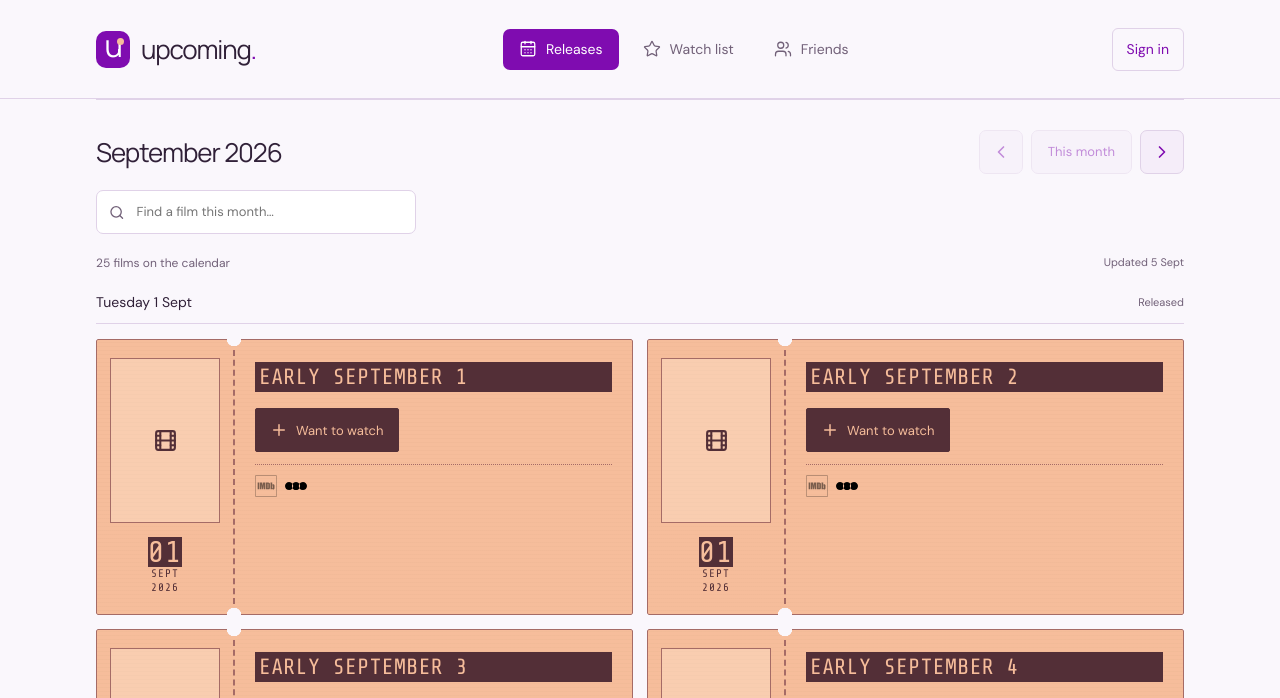
it: release calendar › separates no matching titles from a successfully loaded empty month
Type "not a film" into the search field. click: (269,212)
box: [134,201,403,223]
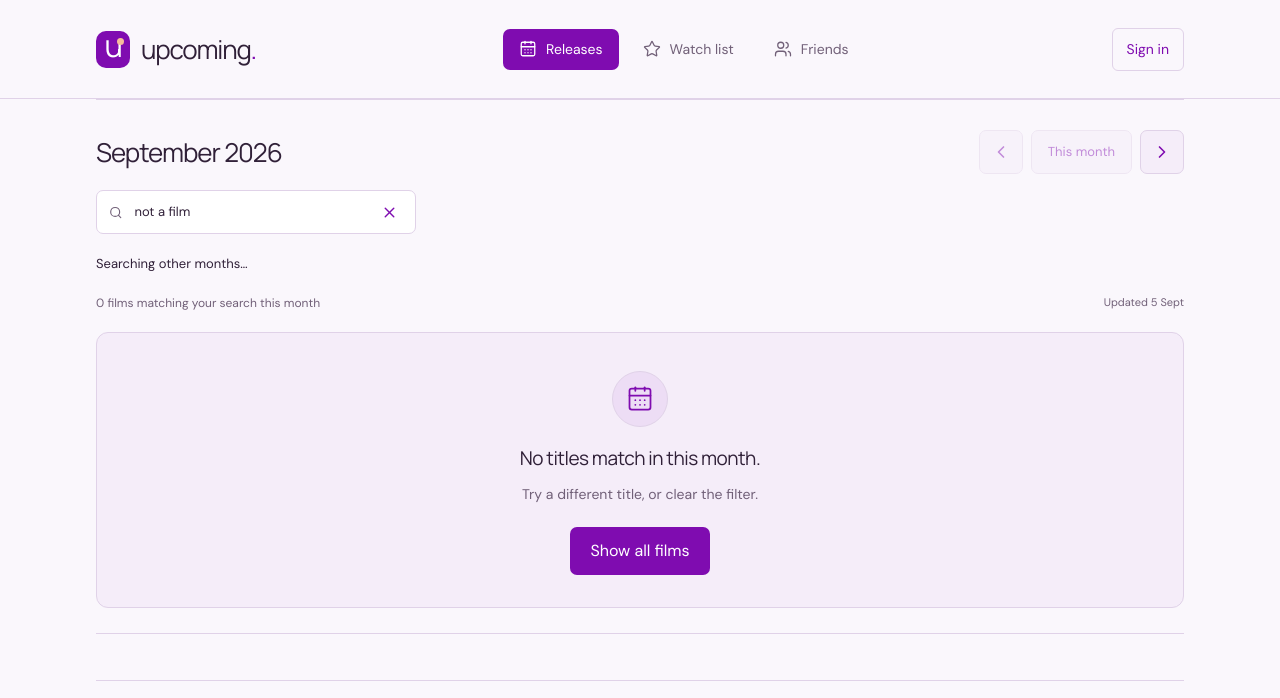
Check: the heading "No titles match in this month." is shown, box [520,444,760,470]
Click the button "Show all films". click: (640,551)
box: [570,527,710,575]
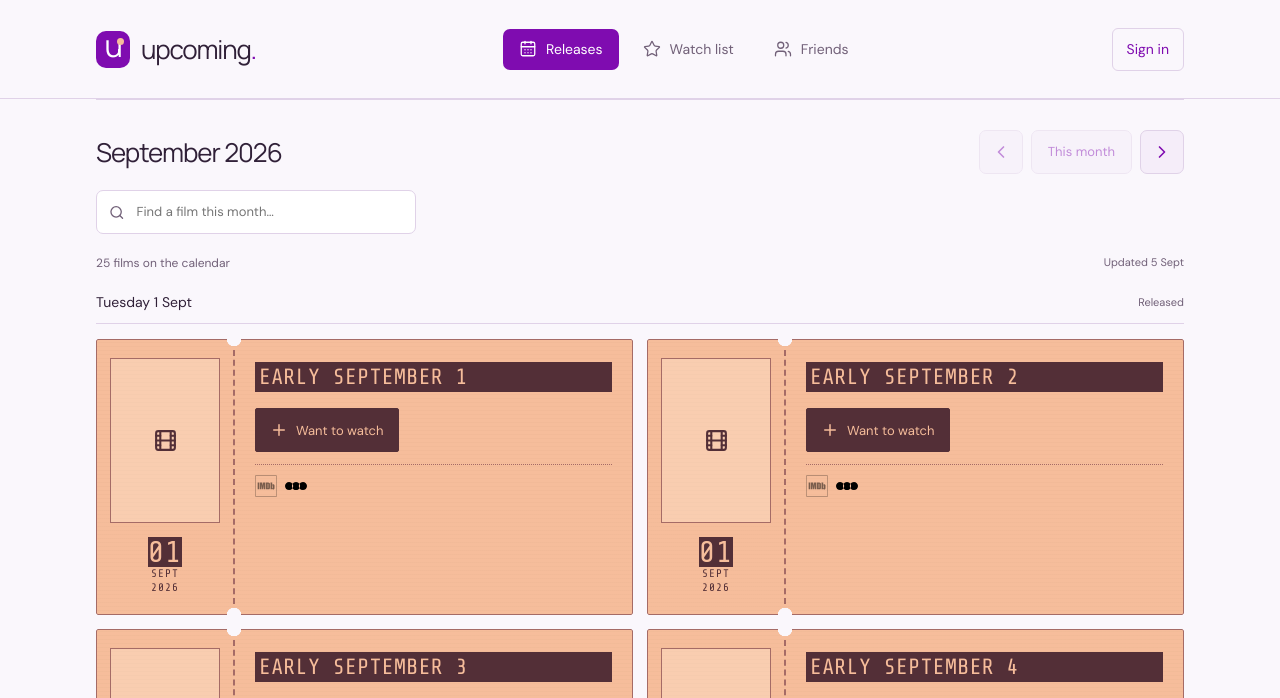
Click the button named "Next month". click: (1162,152)
box: [1140,130,1184,174]
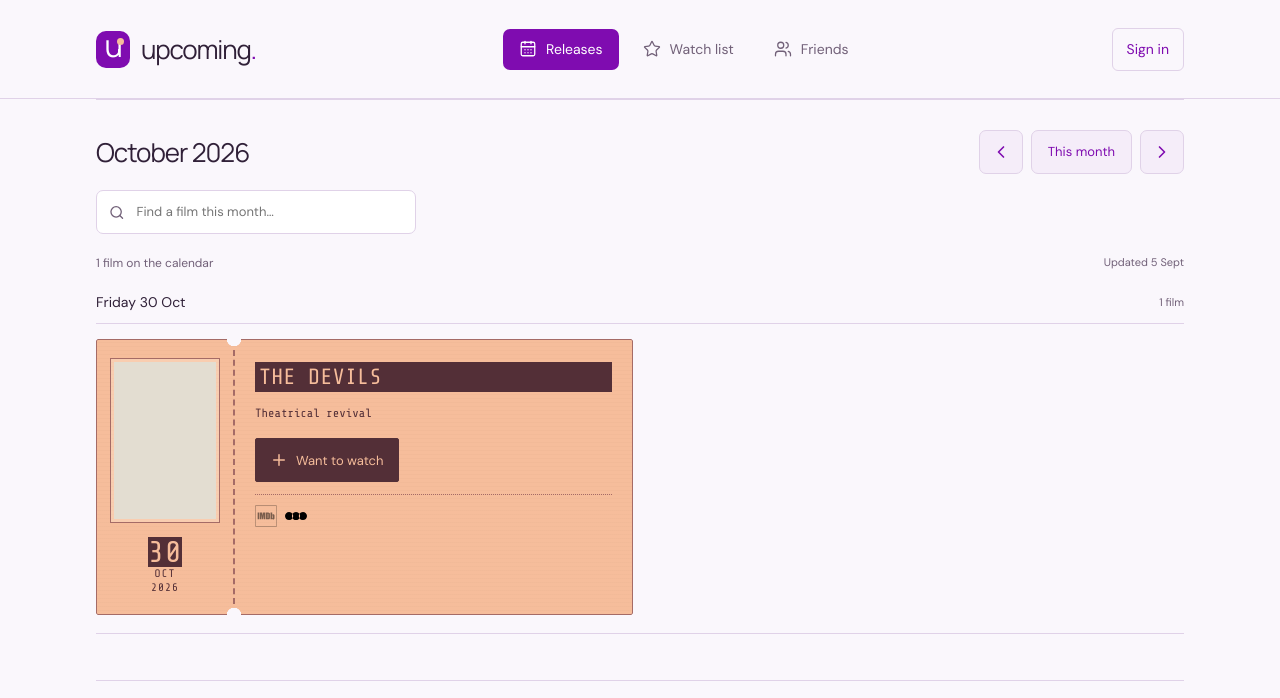
Check: the heading "The Devils" is shown, box [255,362,612,392]
Click the button named "Next month". click: (1162,152)
box: [1140,130,1184,174]
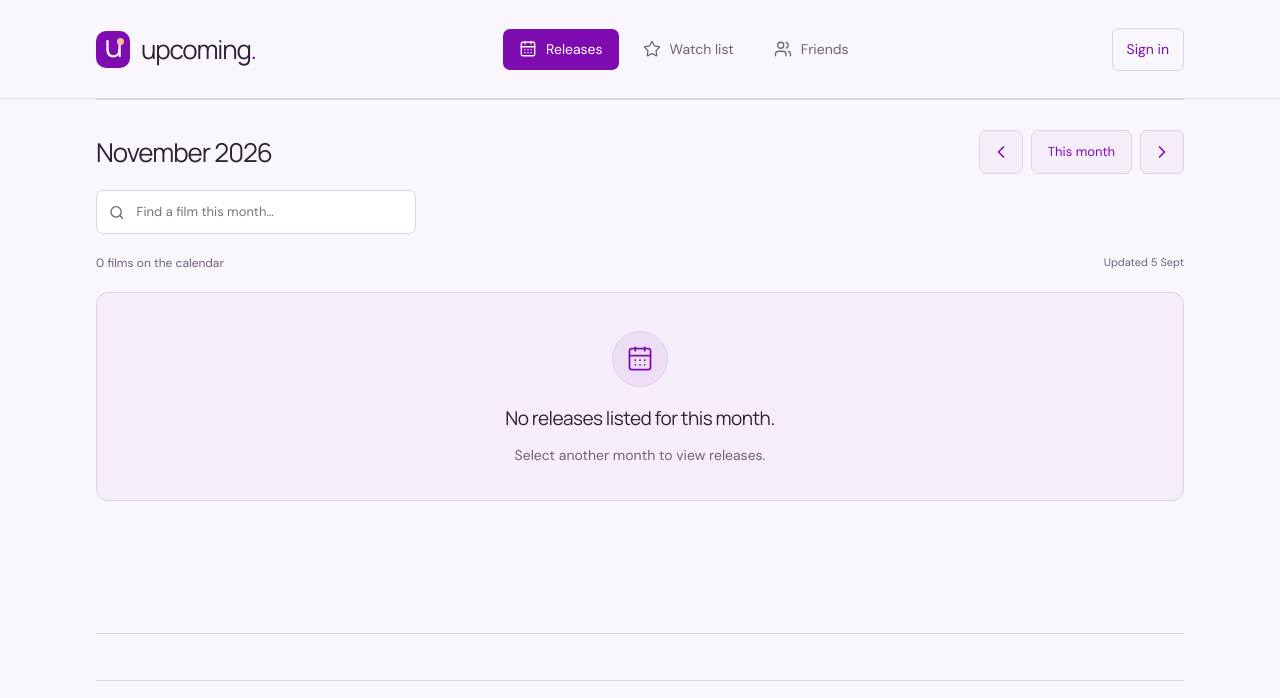
Check: the heading "No releases listed for this month." is shown, box [505,405,775,431]
